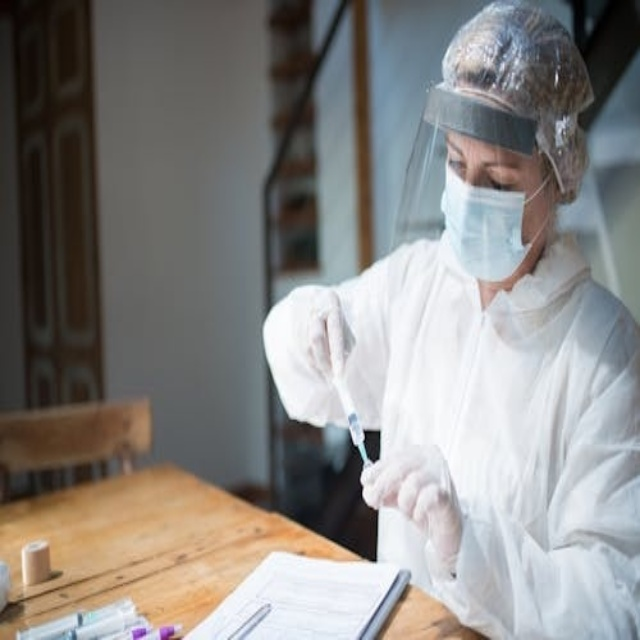Guantes: (359, 441, 464, 580), (307, 291, 356, 394)
Mascara: (442, 163, 548, 283)
Sin_gafas: (443, 132, 530, 195)
